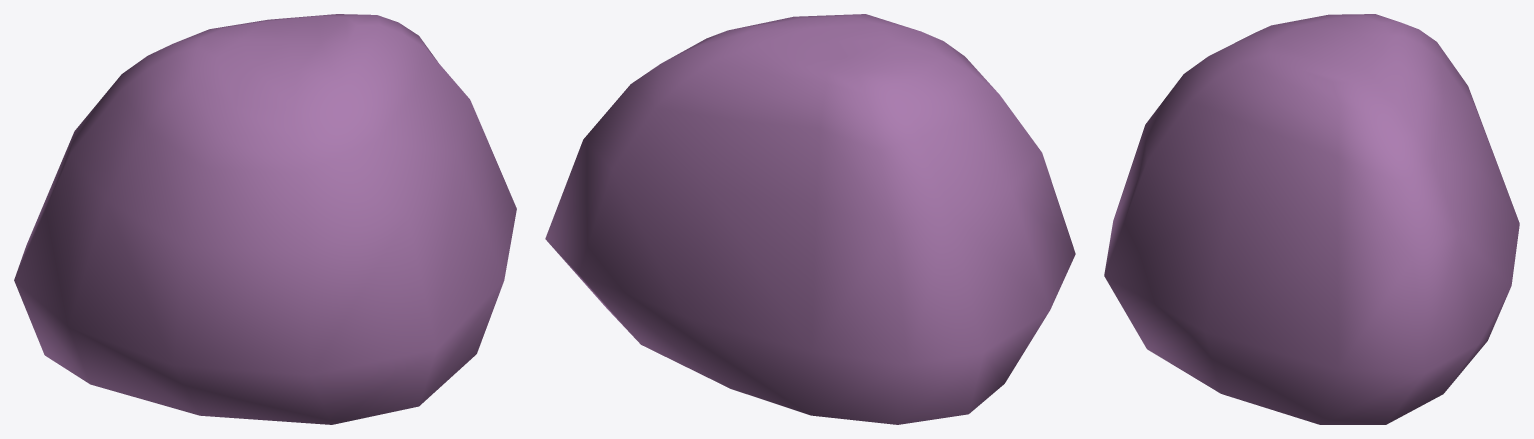
Rendered from Flag_11.fbx.
The picture shows the model from 3 angles, left to right: view 1: azimuth 30°, elevation 25°; view 2: azimuth 150°, elevation 25°; view 3: azimuth 270°, elevation 25°; orthographic projection. The views are drawn at different scales.
Parts seen in each view (by area): view 1: Flag_11; view 2: Flag_11; view 3: Flag_11.
Part boxes in pixels (x1,y1,x2,y2): Flag_11: [14, 14, 516, 424]; Flag_11: [545, 14, 1075, 424]; Flag_11: [1104, 14, 1519, 424].
Size of the model in its own units: 46.24 by 28.71 by 37.97.
